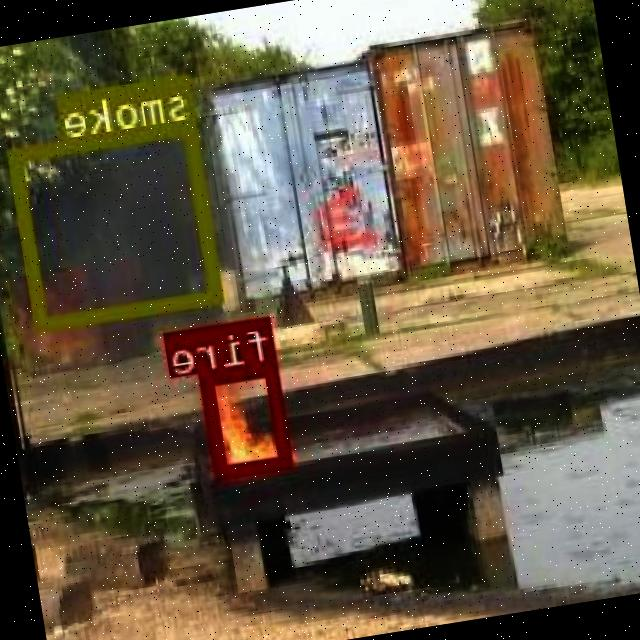fire: (203, 360, 294, 476)
smoke: (11, 119, 226, 328)
